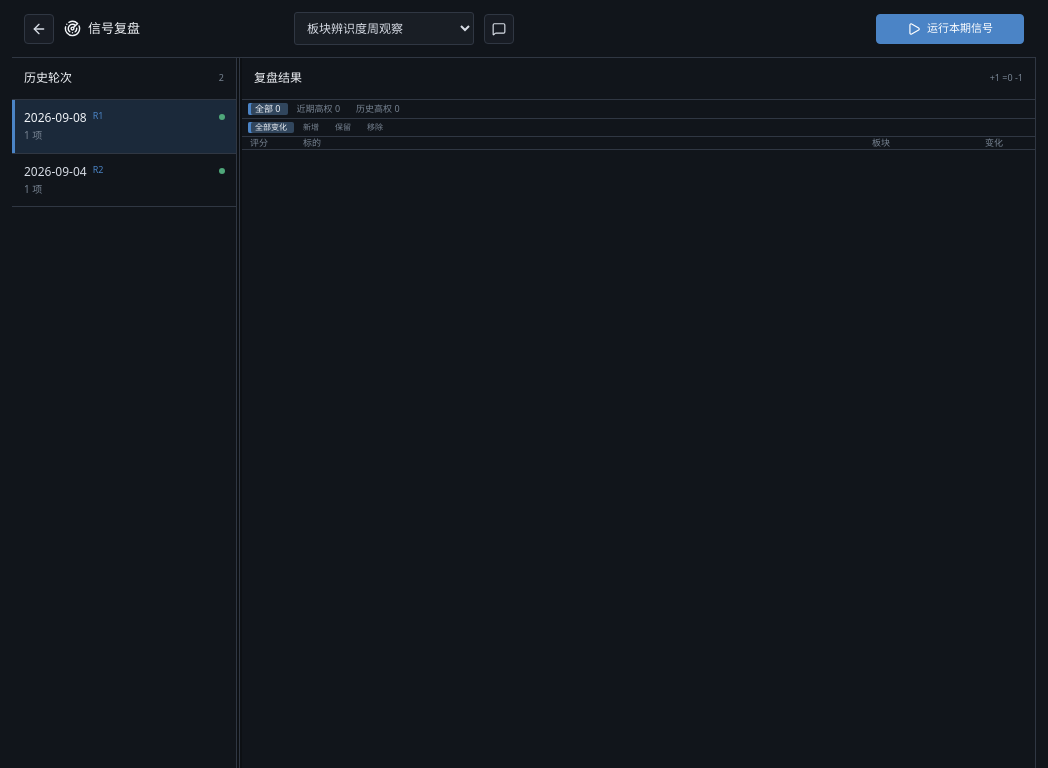
Test: SignalReviewWorkspace › reruns a historical date from its right-click menu as a new revision
Right-click the button "2026-09-04 R2 1 项" at (124, 181), box top-left (12, 154), bottom-right (236, 207)
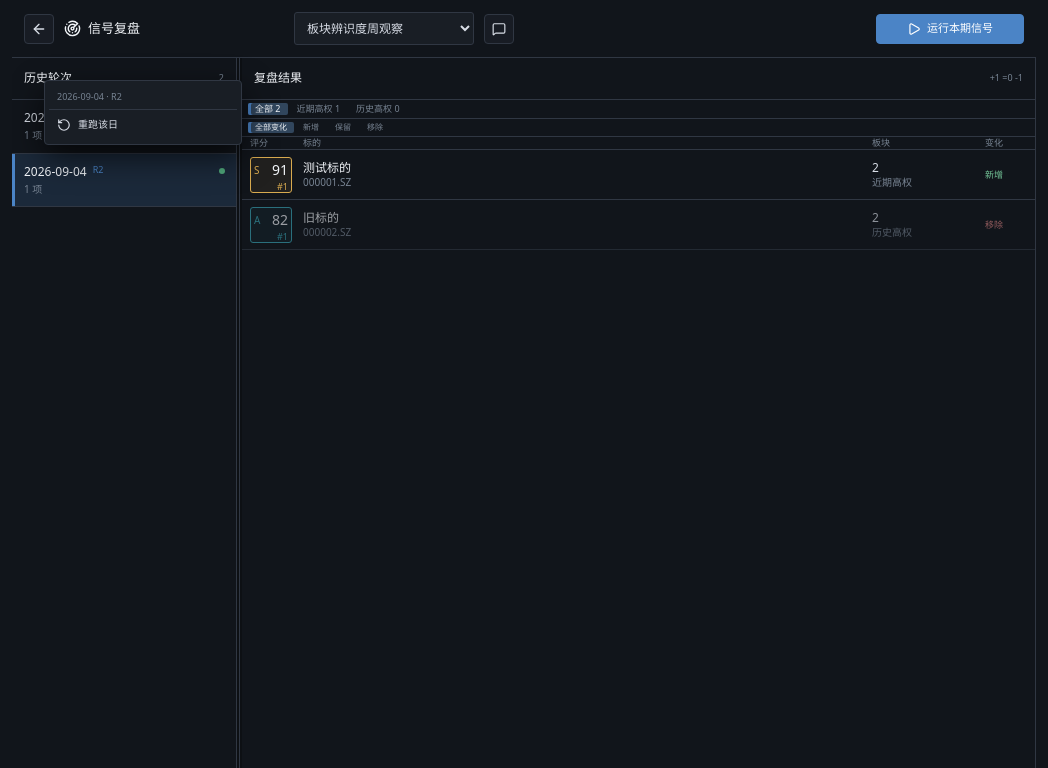
Click the menu item "重跑该日". click: (143, 125)
box: top-left (49, 110), bottom-right (237, 140)
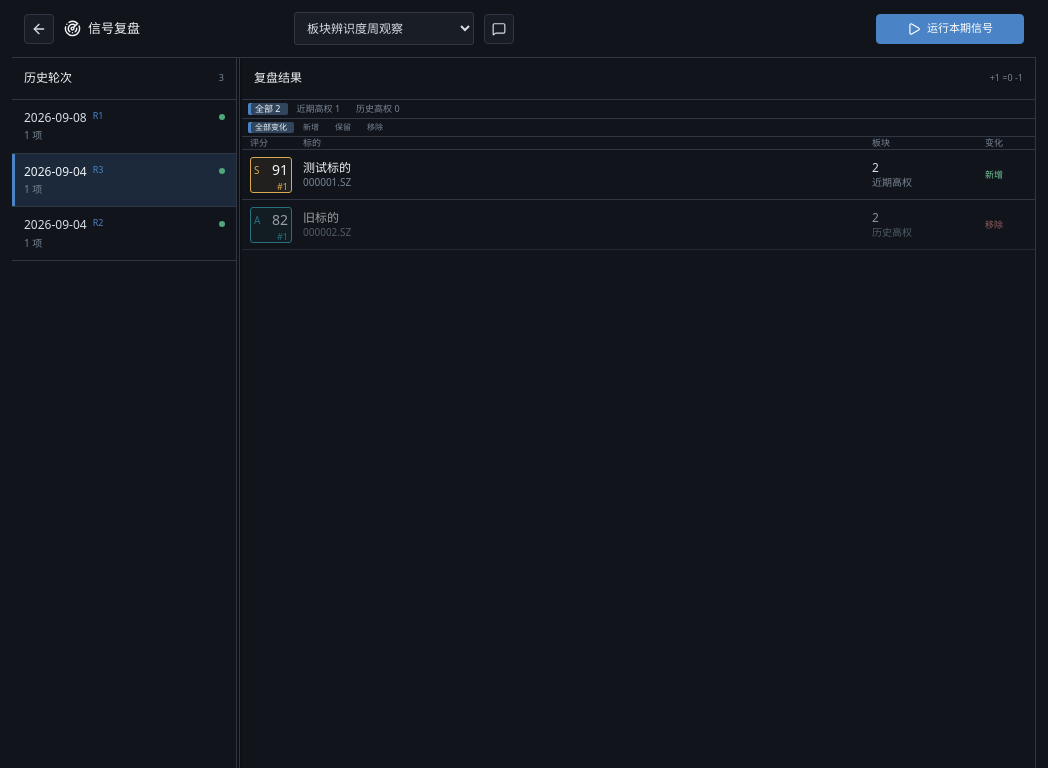
expect the text "R3" is shown: met, box top-left (93, 164), bottom-right (103, 180)
expect the menu is gone: met
